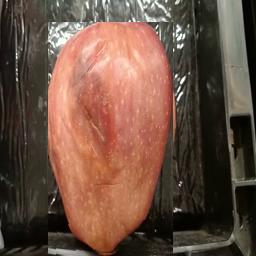Apple Rotten: (48, 22, 173, 256)
